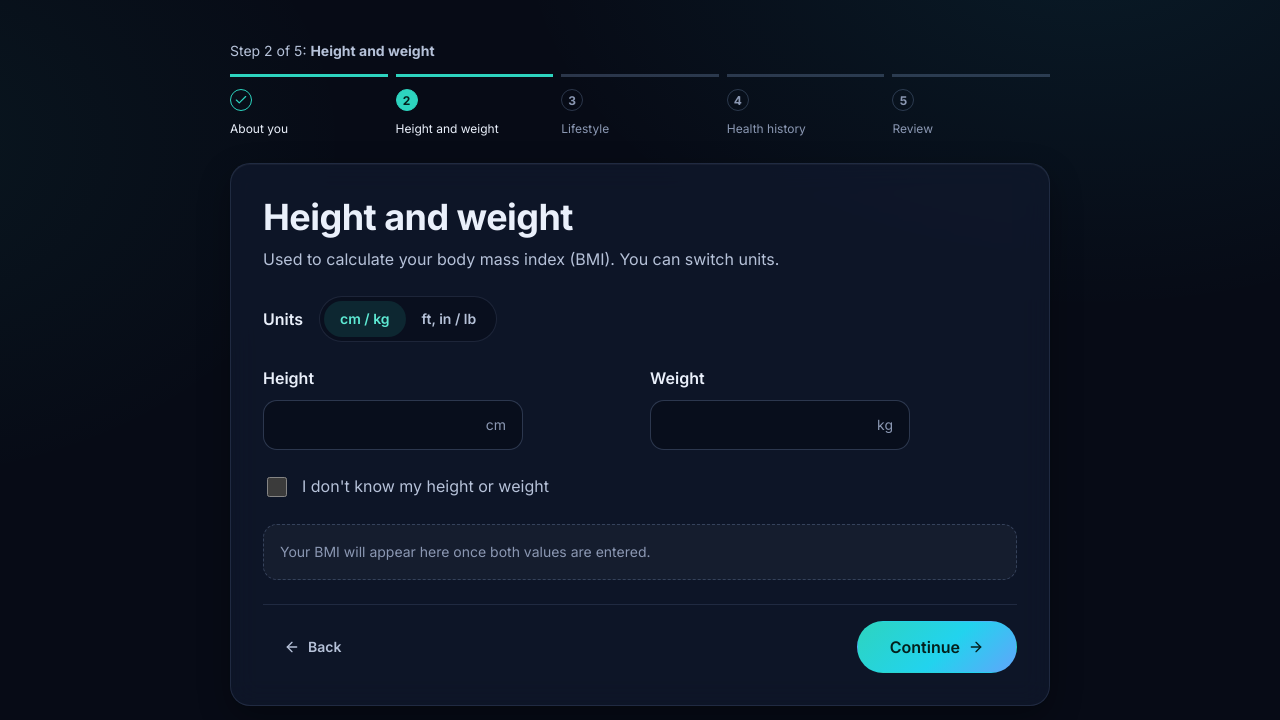
Test: Assessment questionnaire › shows a derived BMI preview
The image size is (1280, 720).
Type "180" into the field labelled "Height" at (379, 425), box [280,401,478,449]
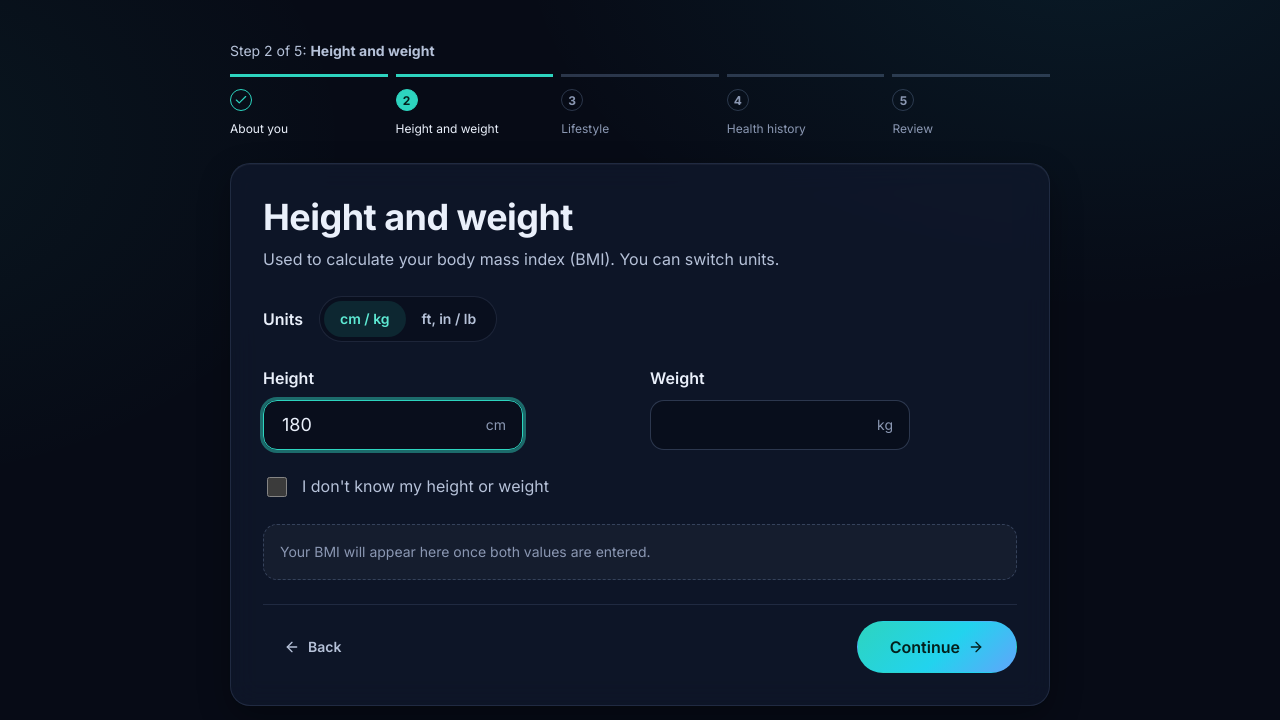
Type "81" into the field labelled "Weight" at (768, 425), box [667,401,869,449]
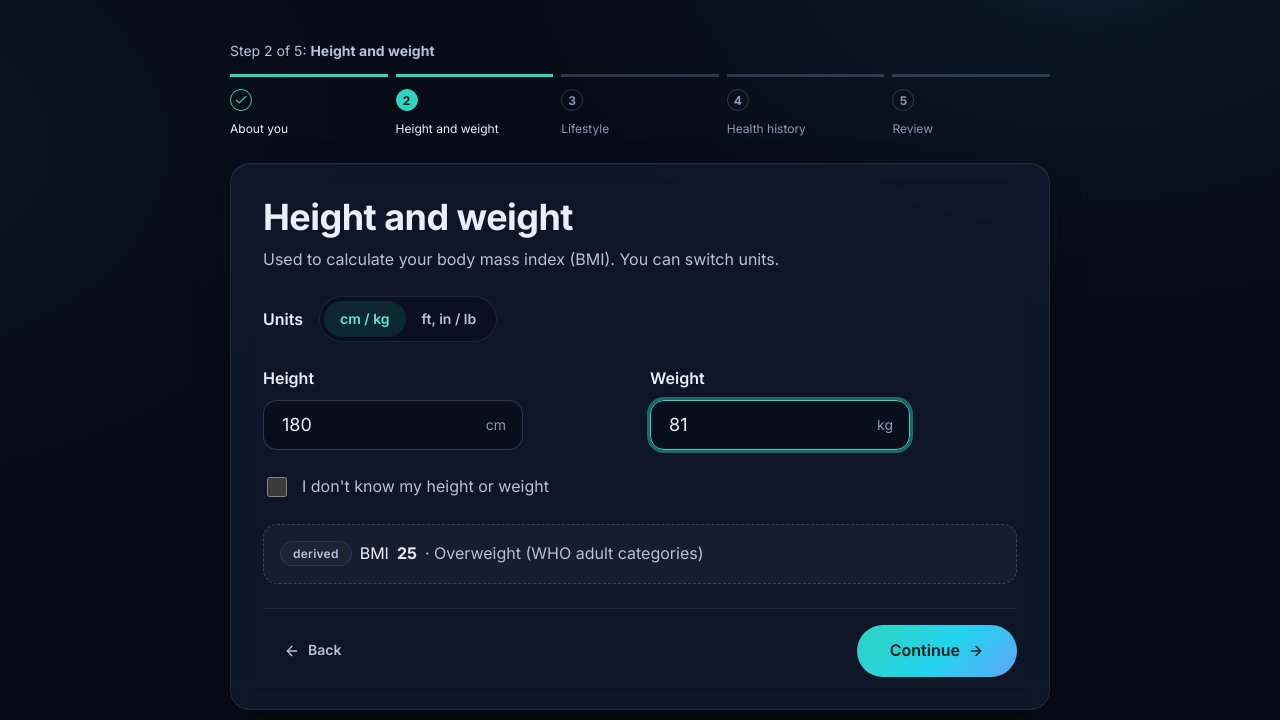
Check: the text "25" is shown, box [397,541,417,567]
Check: the text "· Overweight (WHO adult categories)" is shown, box [425,541,704,567]
